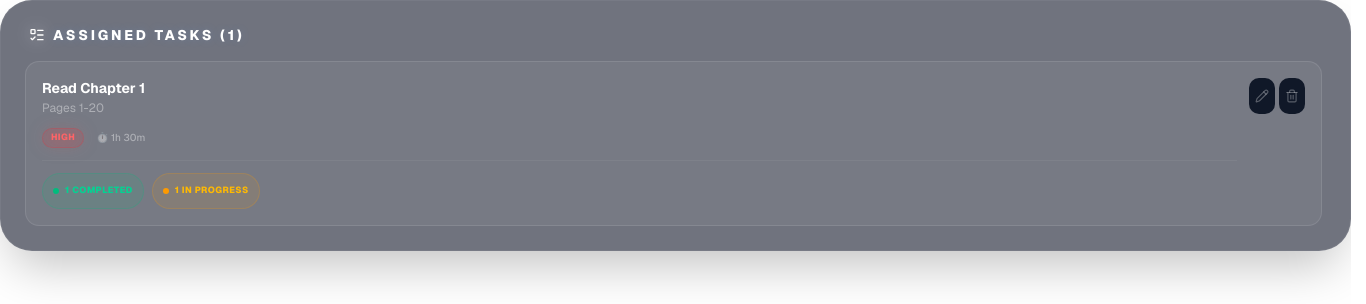
Test: ModuleTasks Component › toggles member lists on progress badges when clicked
The image size is (1366, 304).
Step 1. Click the button "1 completed" → (93, 190), box [42, 172, 144, 208]
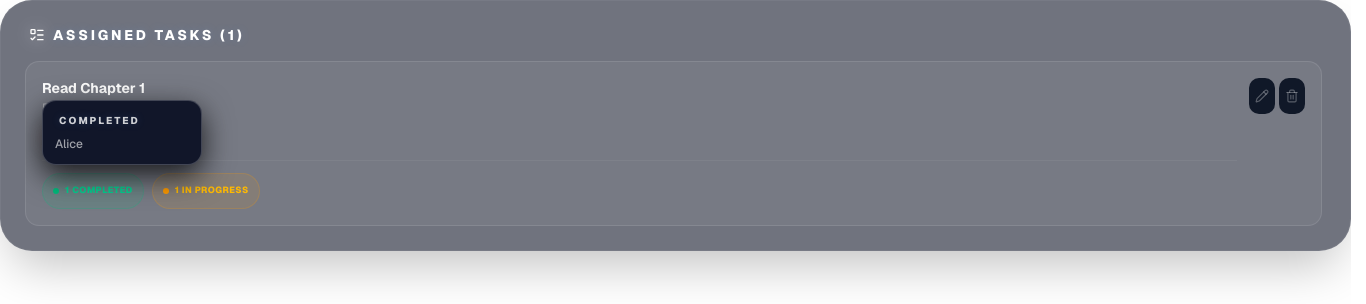
Expected: the list item "Alice" is shown, [55, 136, 83, 152]
Step 2. Click the button "1 in progress" → (206, 190), box [152, 172, 260, 208]
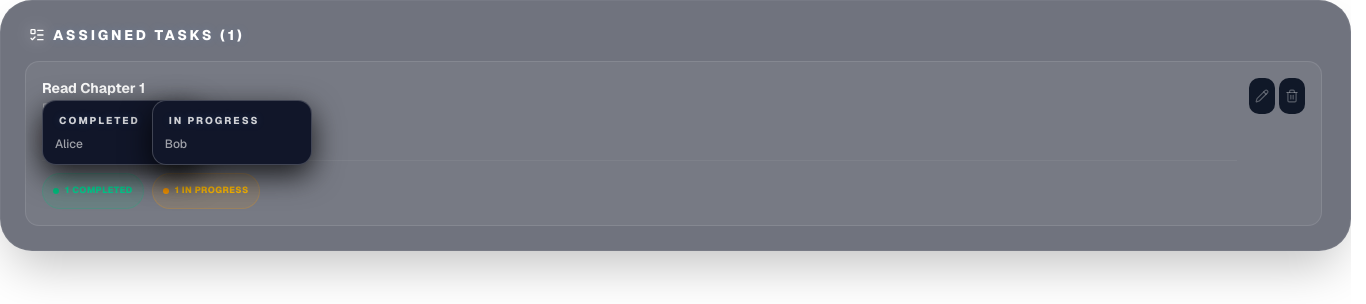
Expected: the list item "Bob" is shown, [165, 136, 187, 152]
